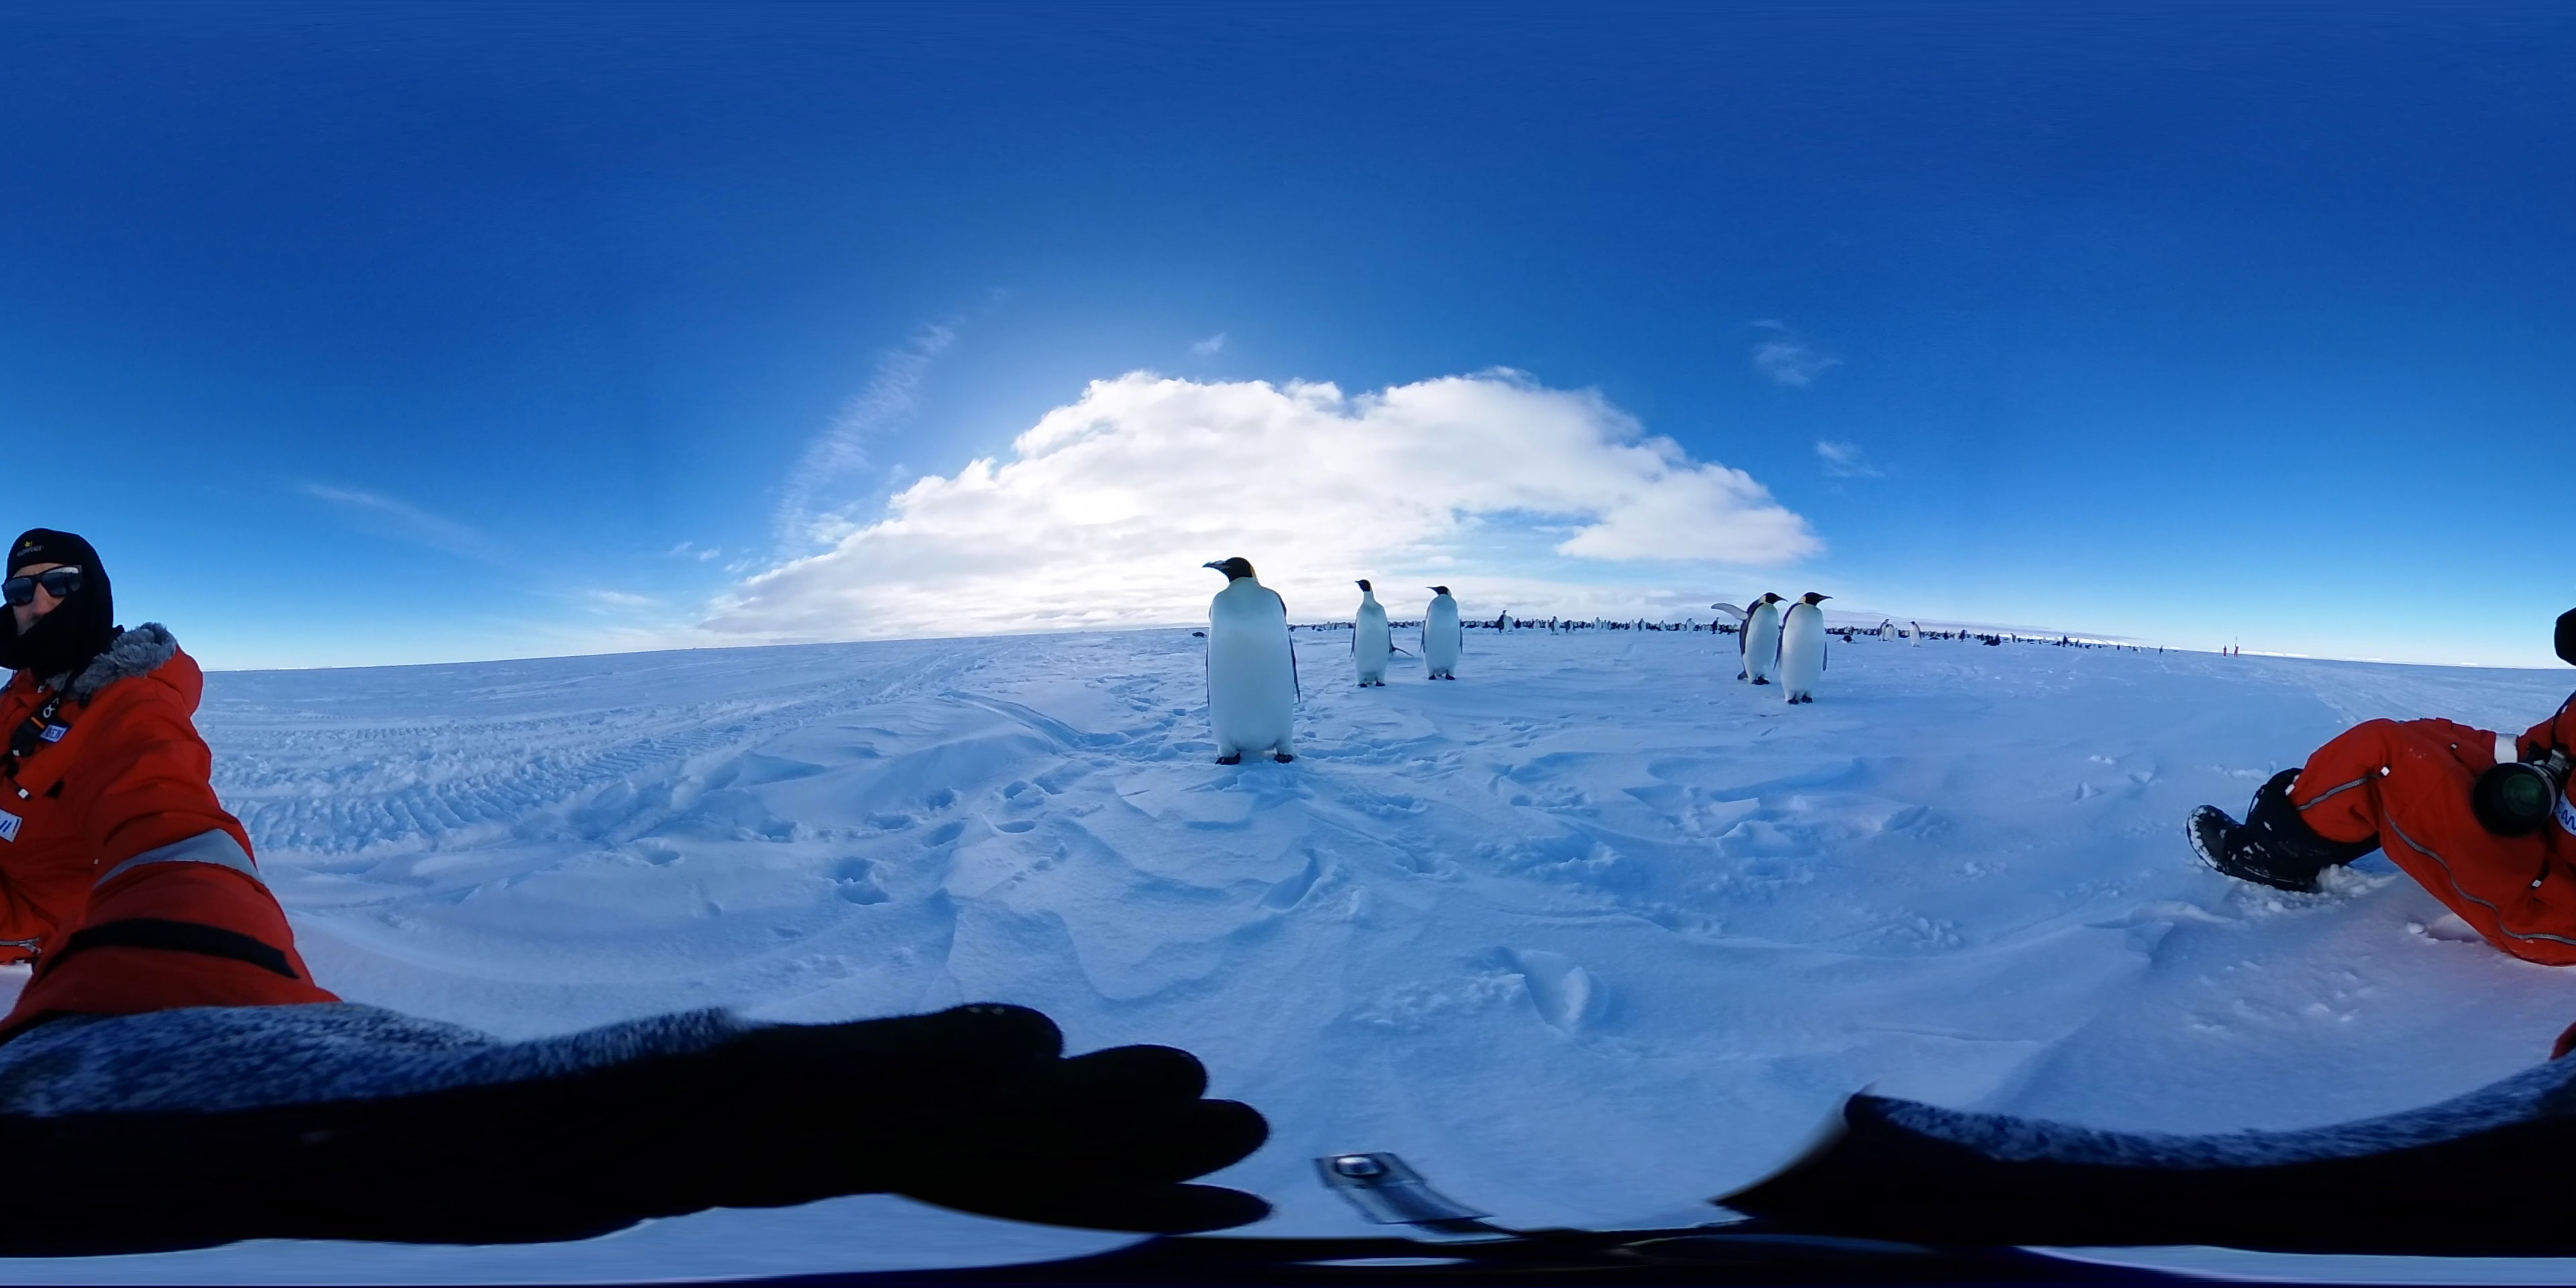adult_standing_penguin: (1201, 550, 1304, 762), (1778, 590, 1842, 706), (1732, 588, 1796, 685), (1349, 577, 1400, 697), (1419, 585, 1467, 682), (1904, 619, 1924, 651), (1881, 623, 1897, 644)
adult_toboggan_penguin: (1835, 631, 1860, 647), (1191, 626, 1211, 641)
researcher: (2, 513, 352, 1046), (2178, 603, 2576, 974)
